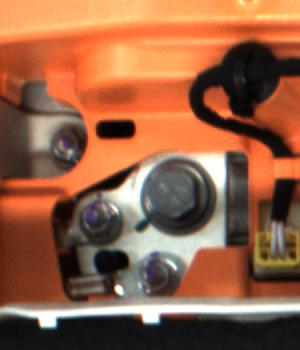nut_b: (138, 156, 217, 232)
